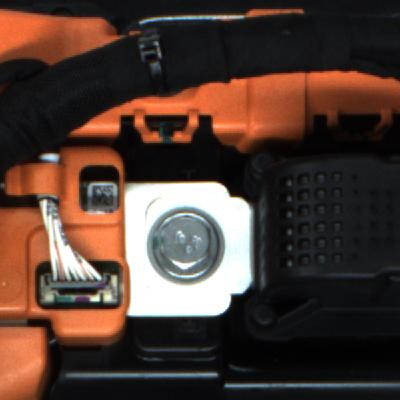nut_b: (142, 191, 240, 292)
